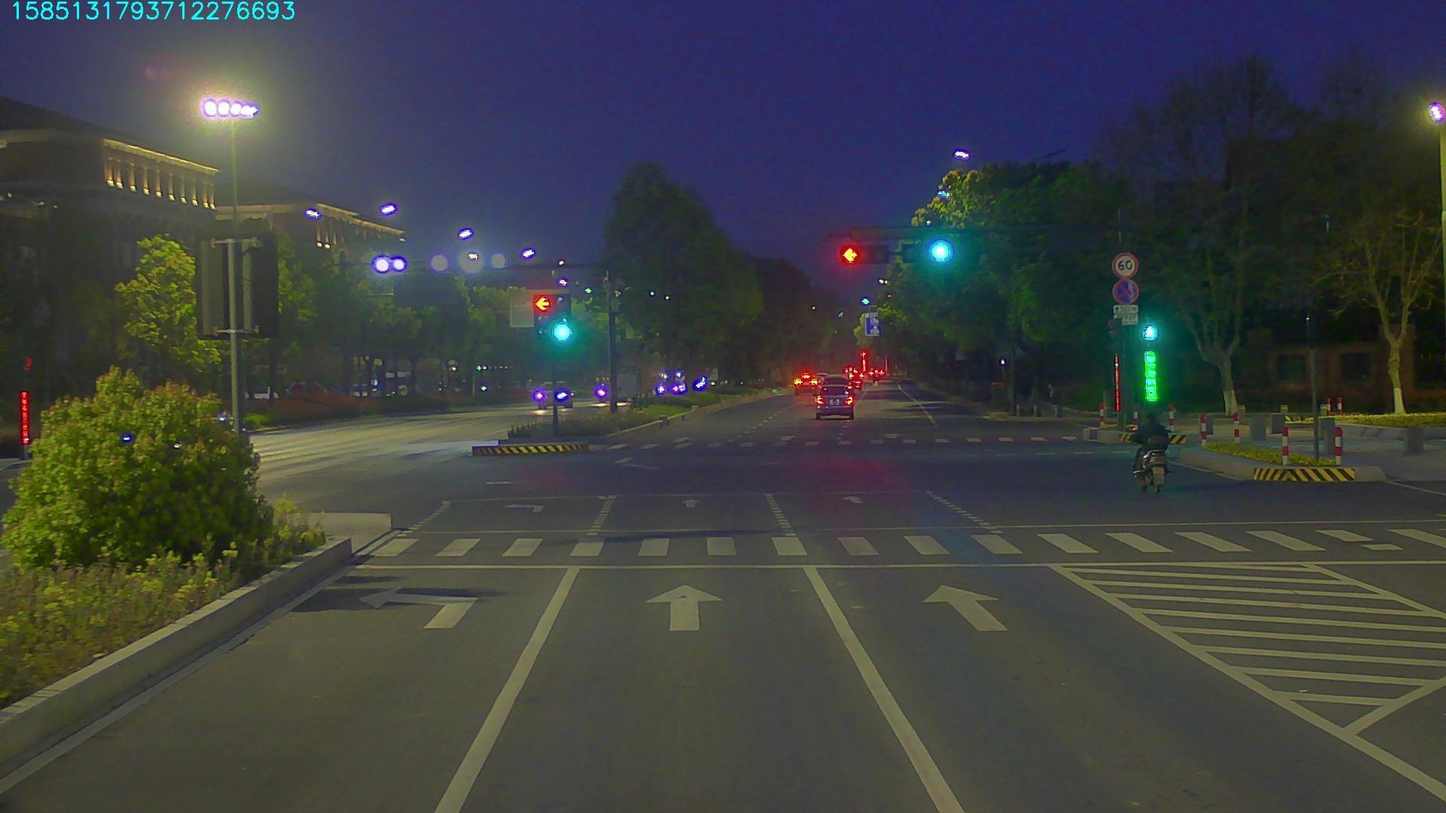green: (905, 239, 961, 263)
red: (840, 244, 884, 266)
